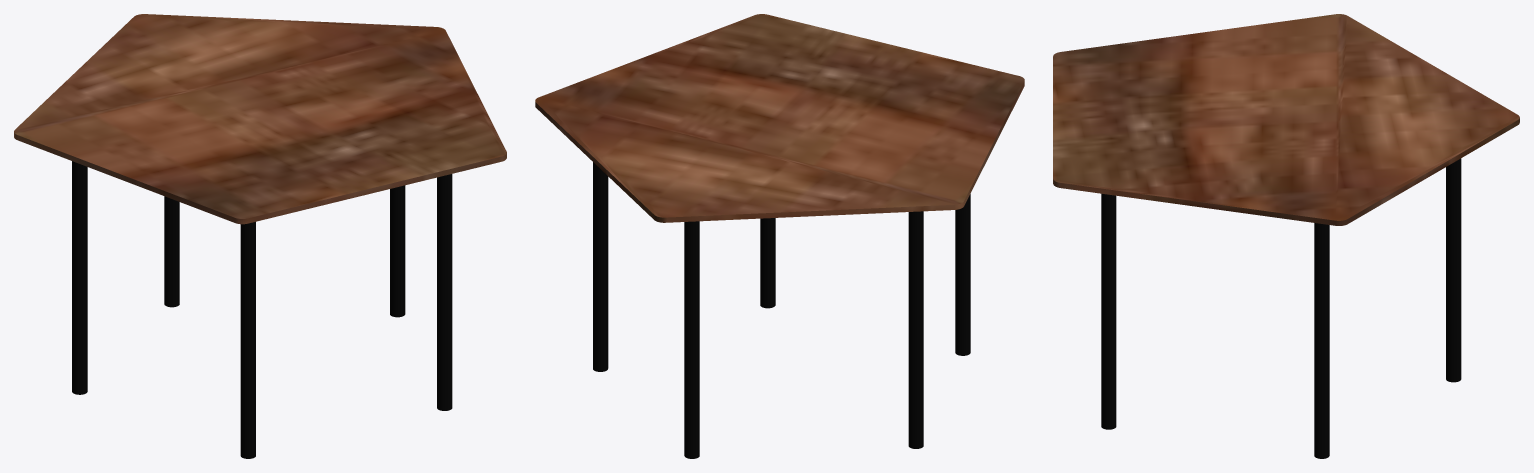
File: pentagon_new.fbx
3 renders of one model, left to right at view 1: azimuth 30°, elevation 25°; view 2: azimuth 150°, elevation 25°; view 3: azimuth 270°, elevation 25°, orthographic.
Visible parts, largest first — view 1: board, leg3, leg2, leg5, leg4, leg1; view 2: board, leg1, leg5, leg4, leg3, leg2; view 3: board, leg4, leg2, leg1.
Boxes of the visible parts, left/top/right/bottom form: board: left=14, top=14, right=506, bottom=224; leg3: left=240, top=222, right=255, bottom=458; leg2: left=437, top=174, right=452, bottom=410; leg5: left=72, top=161, right=87, bottom=394; leg4: left=390, top=185, right=405, bottom=317; leg1: left=164, top=196, right=179, bottom=307; board: left=535, top=14, right=1024, bottom=222; leg1: left=684, top=221, right=699, bottom=458; leg5: left=908, top=211, right=923, bottom=448; leg4: left=593, top=162, right=608, bottom=371; leg3: left=955, top=194, right=970, bottom=355; leg2: left=760, top=218, right=775, bottom=308; board: left=1053, top=14, right=1519, bottom=225; leg4: left=1314, top=223, right=1329, bottom=458; leg2: left=1101, top=193, right=1116, bottom=429; leg1: left=1446, top=158, right=1461, bottom=382.
Size of the model in its own units: 1284 by 758 by 1224.
